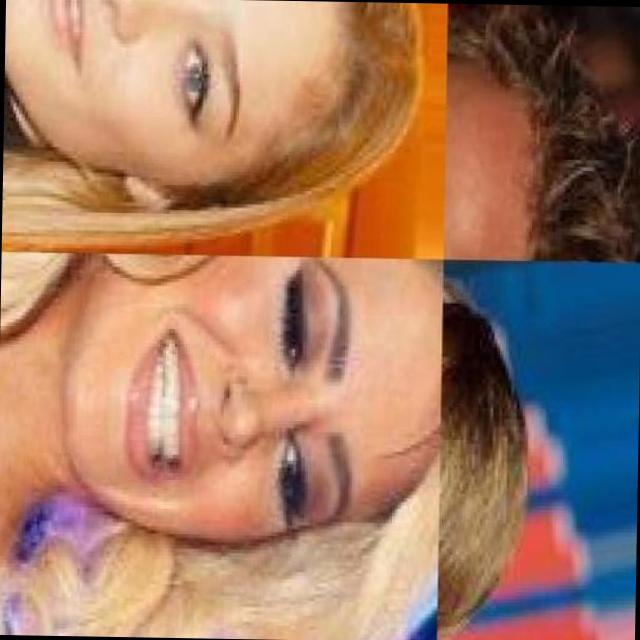bareface: (67, 244, 445, 598)
